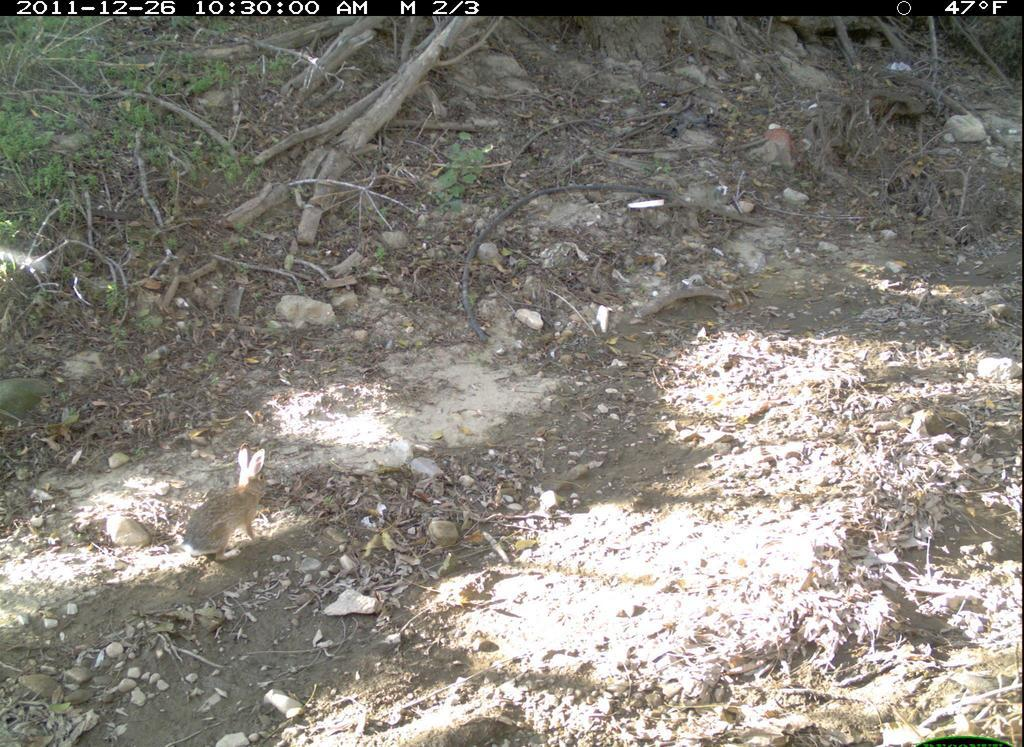rabbit: (175, 440, 296, 568)
